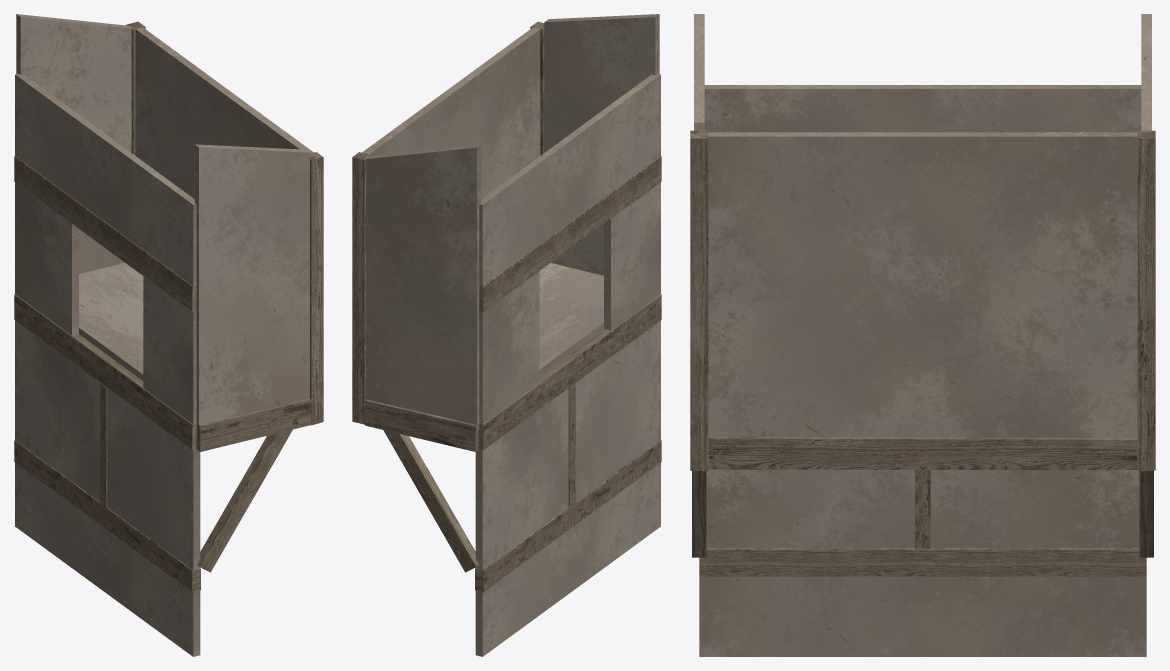
The model's file is SM_JWD_Wall04a.fbx.
3 views of the same model, side by side, from view 1: azimuth 30°, elevation 25°; view 2: azimuth 150°, elevation 25°; view 3: azimuth 270°, elevation 25° (orthographic). The views are drawn at different scales.
Parts seen in each view (by area): view 1: SM_JWD_Wall04a; view 2: SM_JWD_Wall04a; view 3: SM_JWD_Wall04a.
Part boxes in pixels (box(x1,y1,x2,y2)): SM_JWD_Wall04a: box(14, 14, 323, 656); SM_JWD_Wall04a: box(352, 14, 661, 656); SM_JWD_Wall04a: box(690, 14, 1155, 656).
Size of the model in its own units: 104 by 260 by 395.
Materials: 2 (2 with a texture image).
